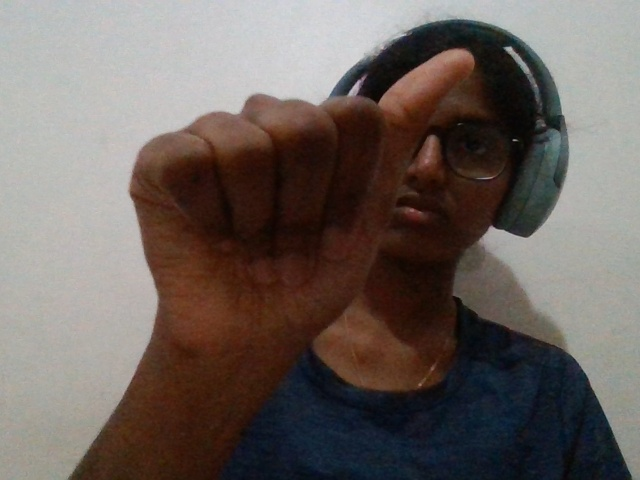A: (57, 41, 485, 407)
